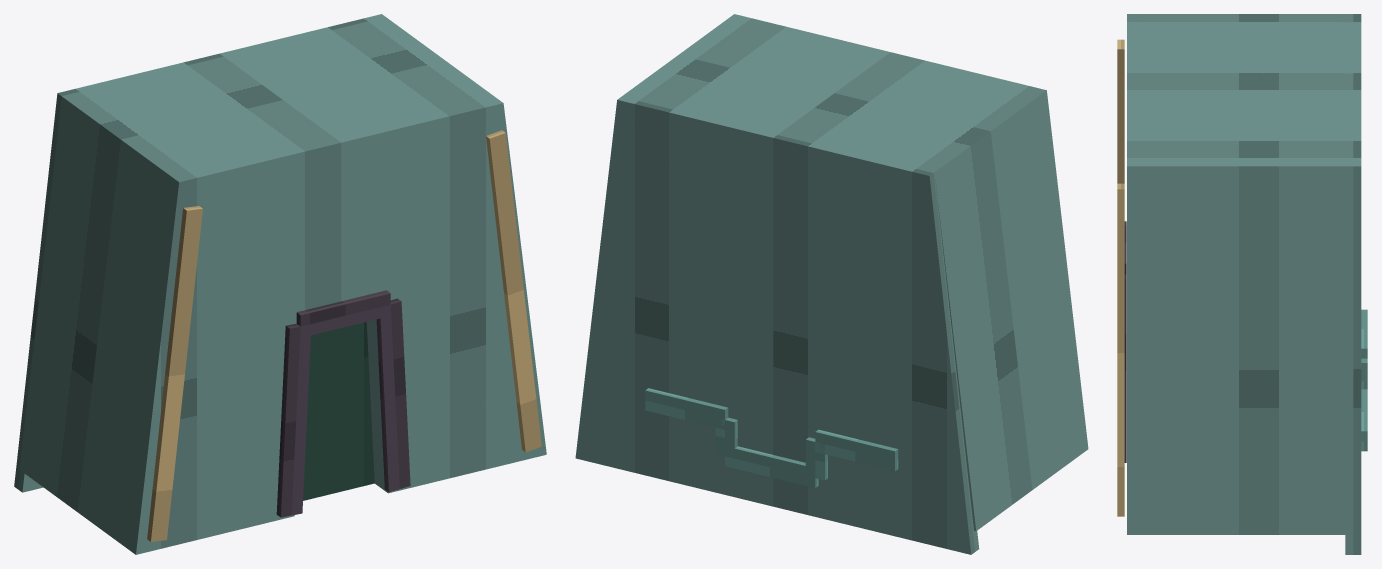
Rendered from qi_tingyu_leggings.obj.
The picture shows the model from 3 angles, left to right: view 1: azimuth 30°, elevation 25°; view 2: azimuth 150°, elevation 25°; view 3: azimuth 270°, elevation 25°; orthographic projection. The views are drawn at different scales.
Parts seen in each view (by area): view 1: long_robe, trouser_1, robe_front_edge_-1, robe_front_edge_1, walking_lining_0, back_long_robe, walking_lining_2, trouser_-1, walking_lining_1; view 2: back_long_robe, long_robe, back_rain_hem_2, back_rain_hem_0, back_rain_hem_4, back_rain_hem_1, back_rain_hem_3; view 3: long_robe, back_long_robe, robe_front_edge_1, robe_front_edge_-1, walking_lining_2, back_rain_hem_4, back_rain_hem_0.
Boxes of the visible parts, x1,y1,x2,y2 form: long_robe: [19, 18, 546, 554]; trouser_1: [325, 322, 374, 493]; robe_front_edge_-1: [147, 206, 202, 541]; robe_front_edge_1: [486, 130, 541, 452]; walking_lining_0: [276, 323, 311, 517]; back_long_robe: [14, 14, 386, 492]; walking_lining_2: [376, 298, 410, 492]; trouser_-1: [303, 331, 330, 500]; walking_lining_1: [296, 290, 390, 337]; back_long_robe: [575, 94, 979, 554]; long_robe: [622, 14, 1088, 531]; back_rain_hem_2: [725, 446, 818, 487]; back_rain_hem_0: [815, 429, 898, 471]; back_rain_hem_4: [645, 388, 728, 429]; back_rain_hem_1: [805, 437, 827, 480]; back_rain_hem_3: [715, 417, 737, 458]; long_robe: [1127, 14, 1351, 534]; back_long_robe: [1345, 14, 1361, 554]; robe_front_edge_1: [1117, 183, 1124, 516]; robe_front_edge_-1: [1117, 39, 1124, 183]; walking_lining_2: [1124, 274, 1126, 462]; back_rain_hem_4: [1361, 392, 1367, 451]; back_rain_hem_0: [1361, 309, 1367, 358].
Size of the model in its own units: 0.7125 by 0.6344 by 0.3906.
